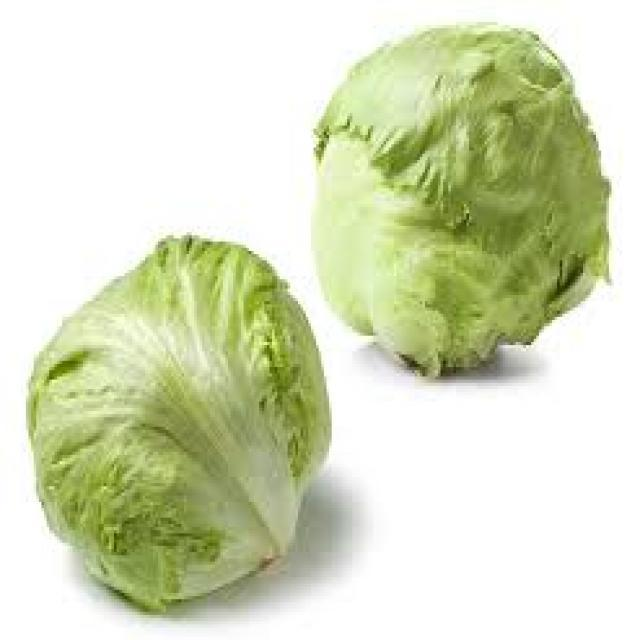Lettuce: (20, 226, 328, 612), (300, 20, 617, 392)
